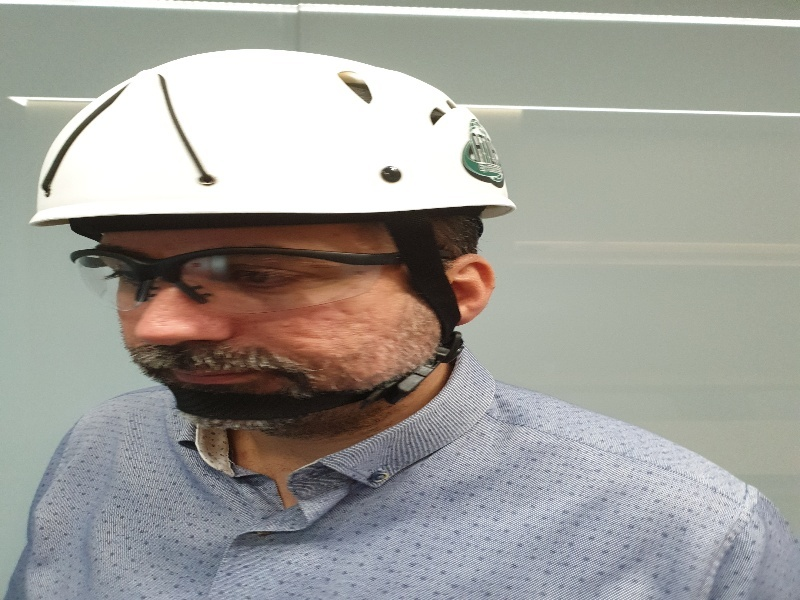Baret: (31, 48, 517, 233)
Gozluk: (70, 246, 440, 312)
